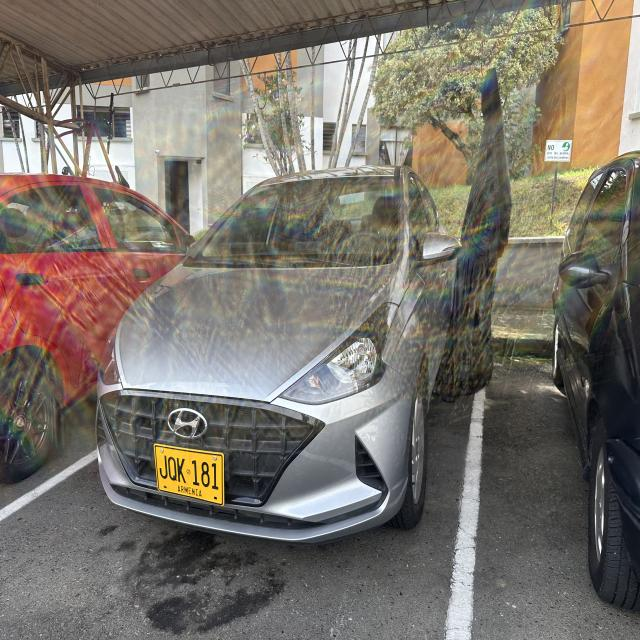number plate: (154, 444, 224, 505)
